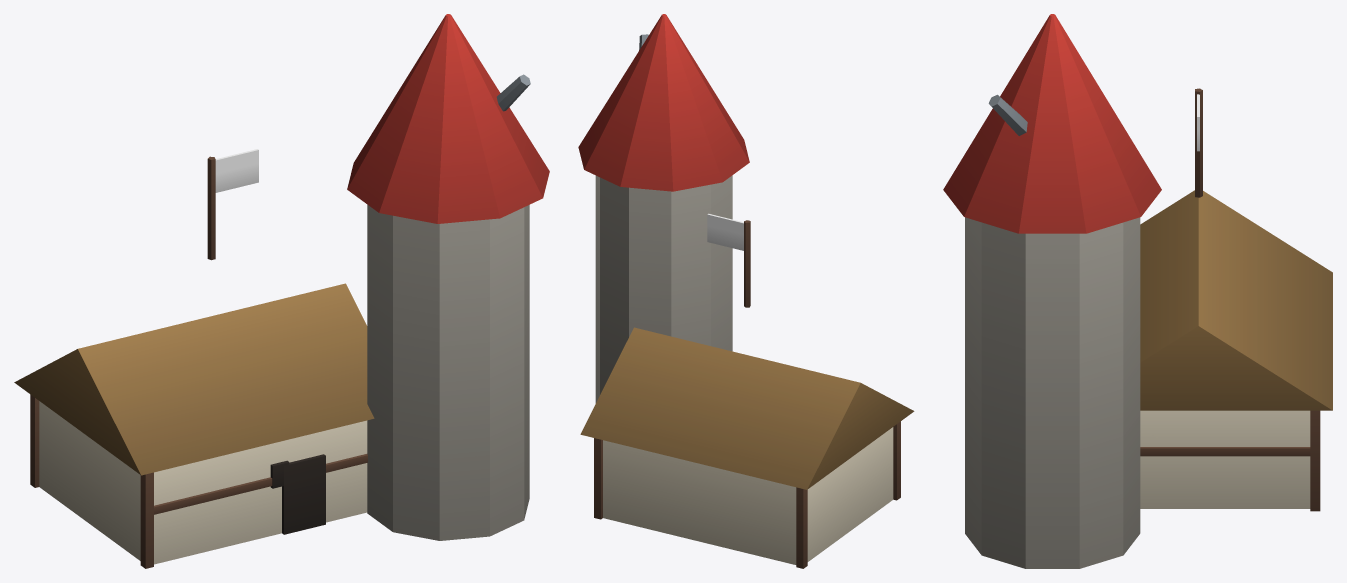
Rendered from RESEARCH_NE.glb.
The picture shows the model from 3 angles, left to right: view 1: azimuth 30°, elevation 25°; view 2: azimuth 150°, elevation 25°; view 3: azimuth 270°, elevation 25°; orthographic projection. The views are drawn at different scales.
Parts seen in each view (by area): view 1: Body, Flag; view 2: Body, Flag; view 3: Body.
Part boxes in pixels (x1,y1,x2,y2): Body: (14, 14, 549, 568); Flag: (215, 149, 258, 192); Body: (578, 14, 914, 568); Flag: (707, 213, 743, 250); Body: (943, 14, 1332, 568).
Bounding box in the file's own units: 3.23 × 3.92 × 2.67.
1 material, 1 textured.
